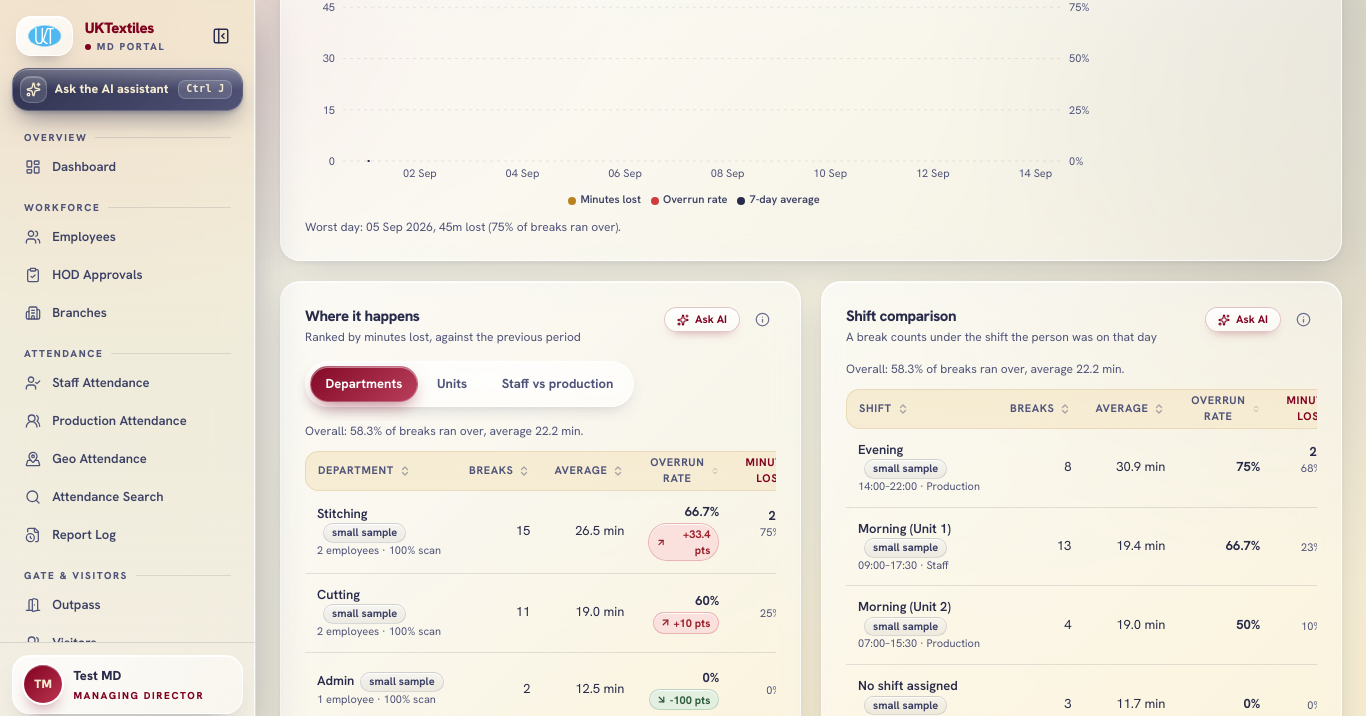
Test: Tea Break page › switches the ranking between departments, units and staff vs production
The image size is (1366, 716).
(page scrolled)
Check: the row with test id "row-Stitching" is shown, box top-left (305, 491), bottom-right (776, 574)
Click the tab "Units" at point(452, 384), box top-left (422, 366), bottom-right (482, 402)
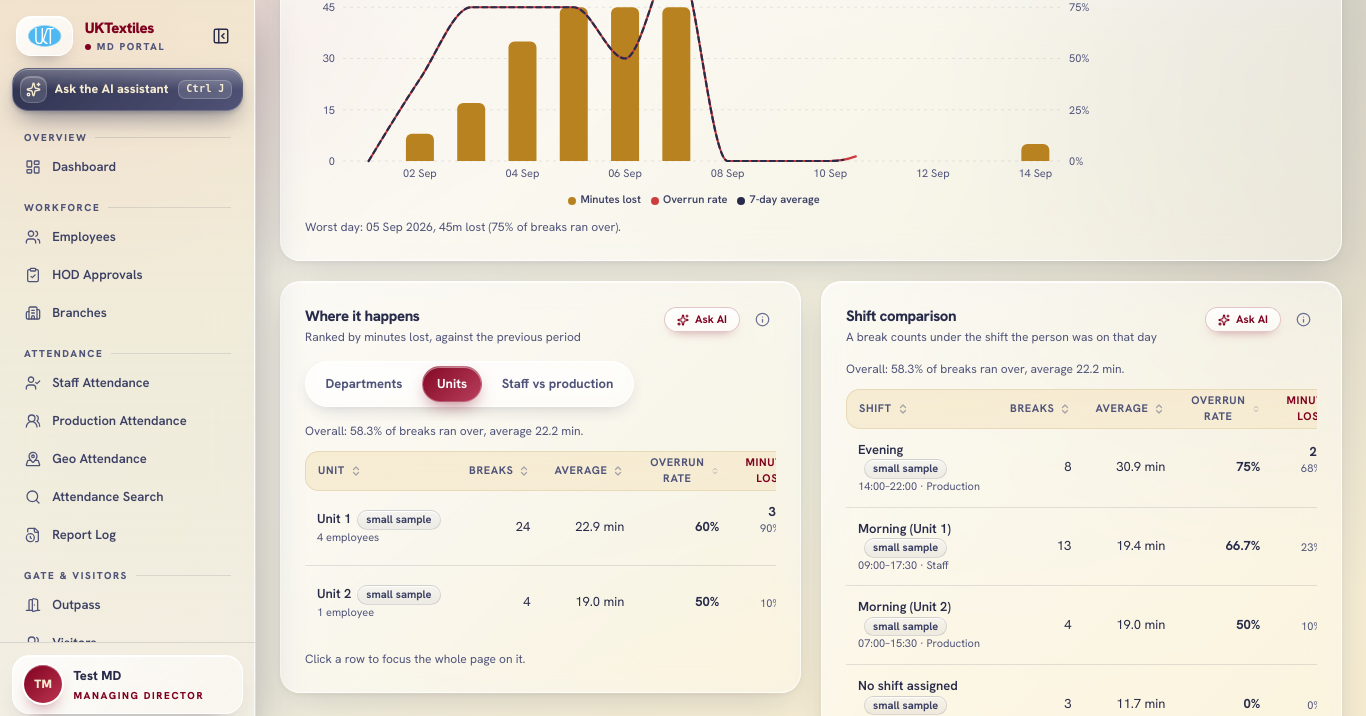
Check: the row with test id "row-Unit 1" shows "60%", box top-left (695, 518), bottom-right (719, 535)
Click the tab "Staff vs production" at point(558, 384), box top-left (486, 366), bottom-right (629, 402)
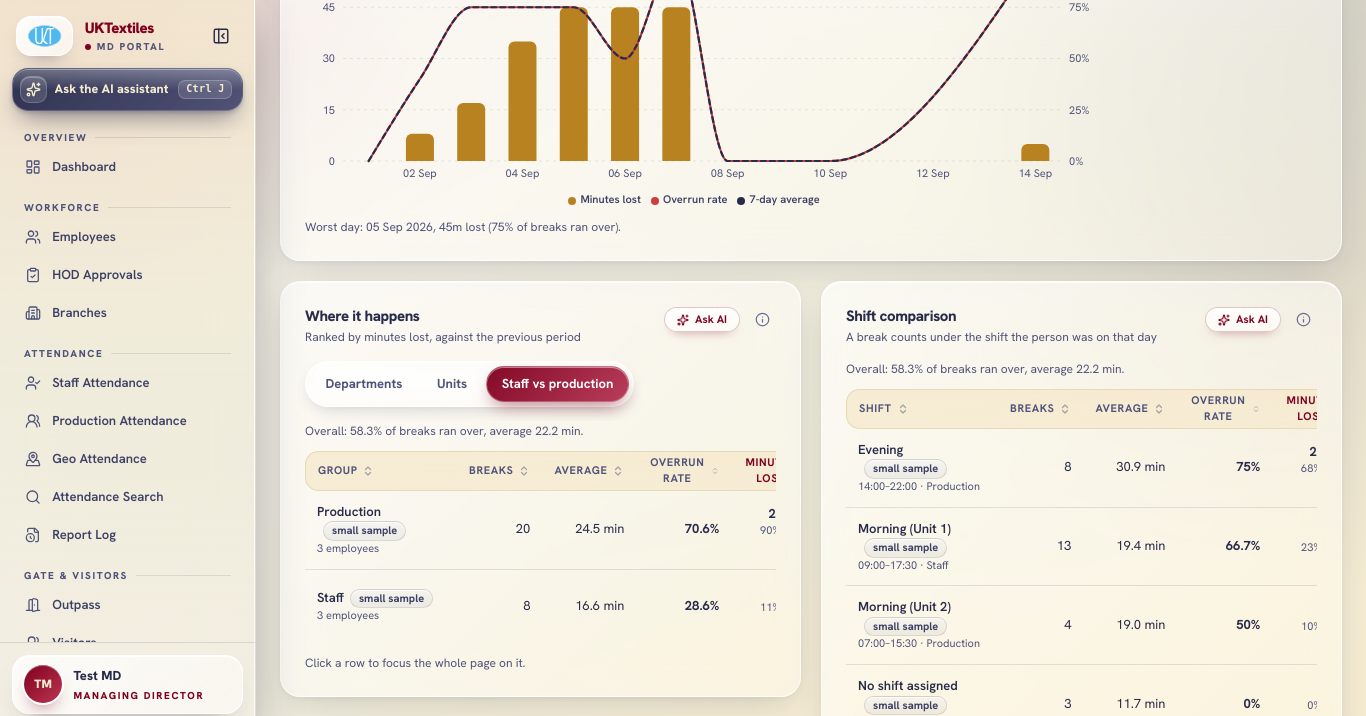
Check: the row with test id "row-production" shows "Production", box top-left (317, 503), bottom-right (381, 520)
